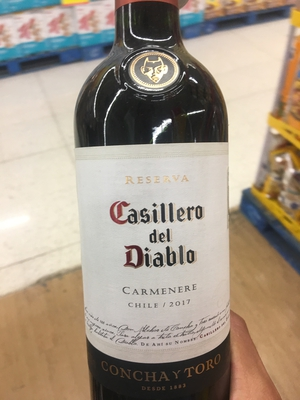casillero del diablo carmenere: (72, 6, 243, 377)
